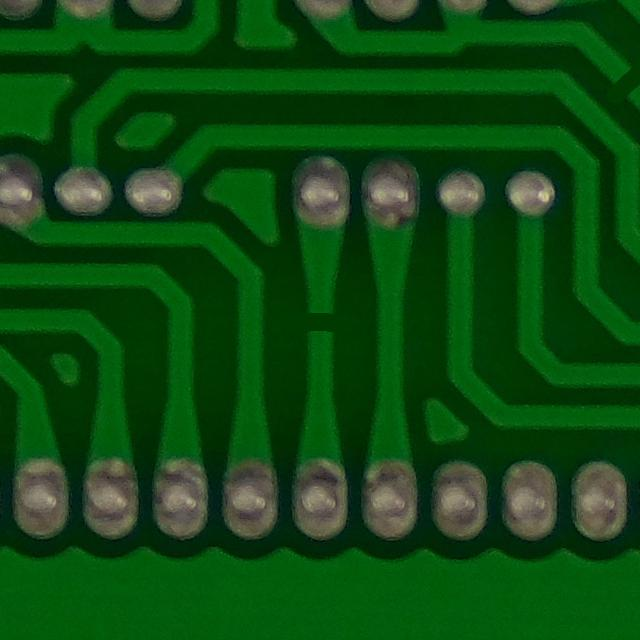open_circuit: (296, 297, 345, 344)
